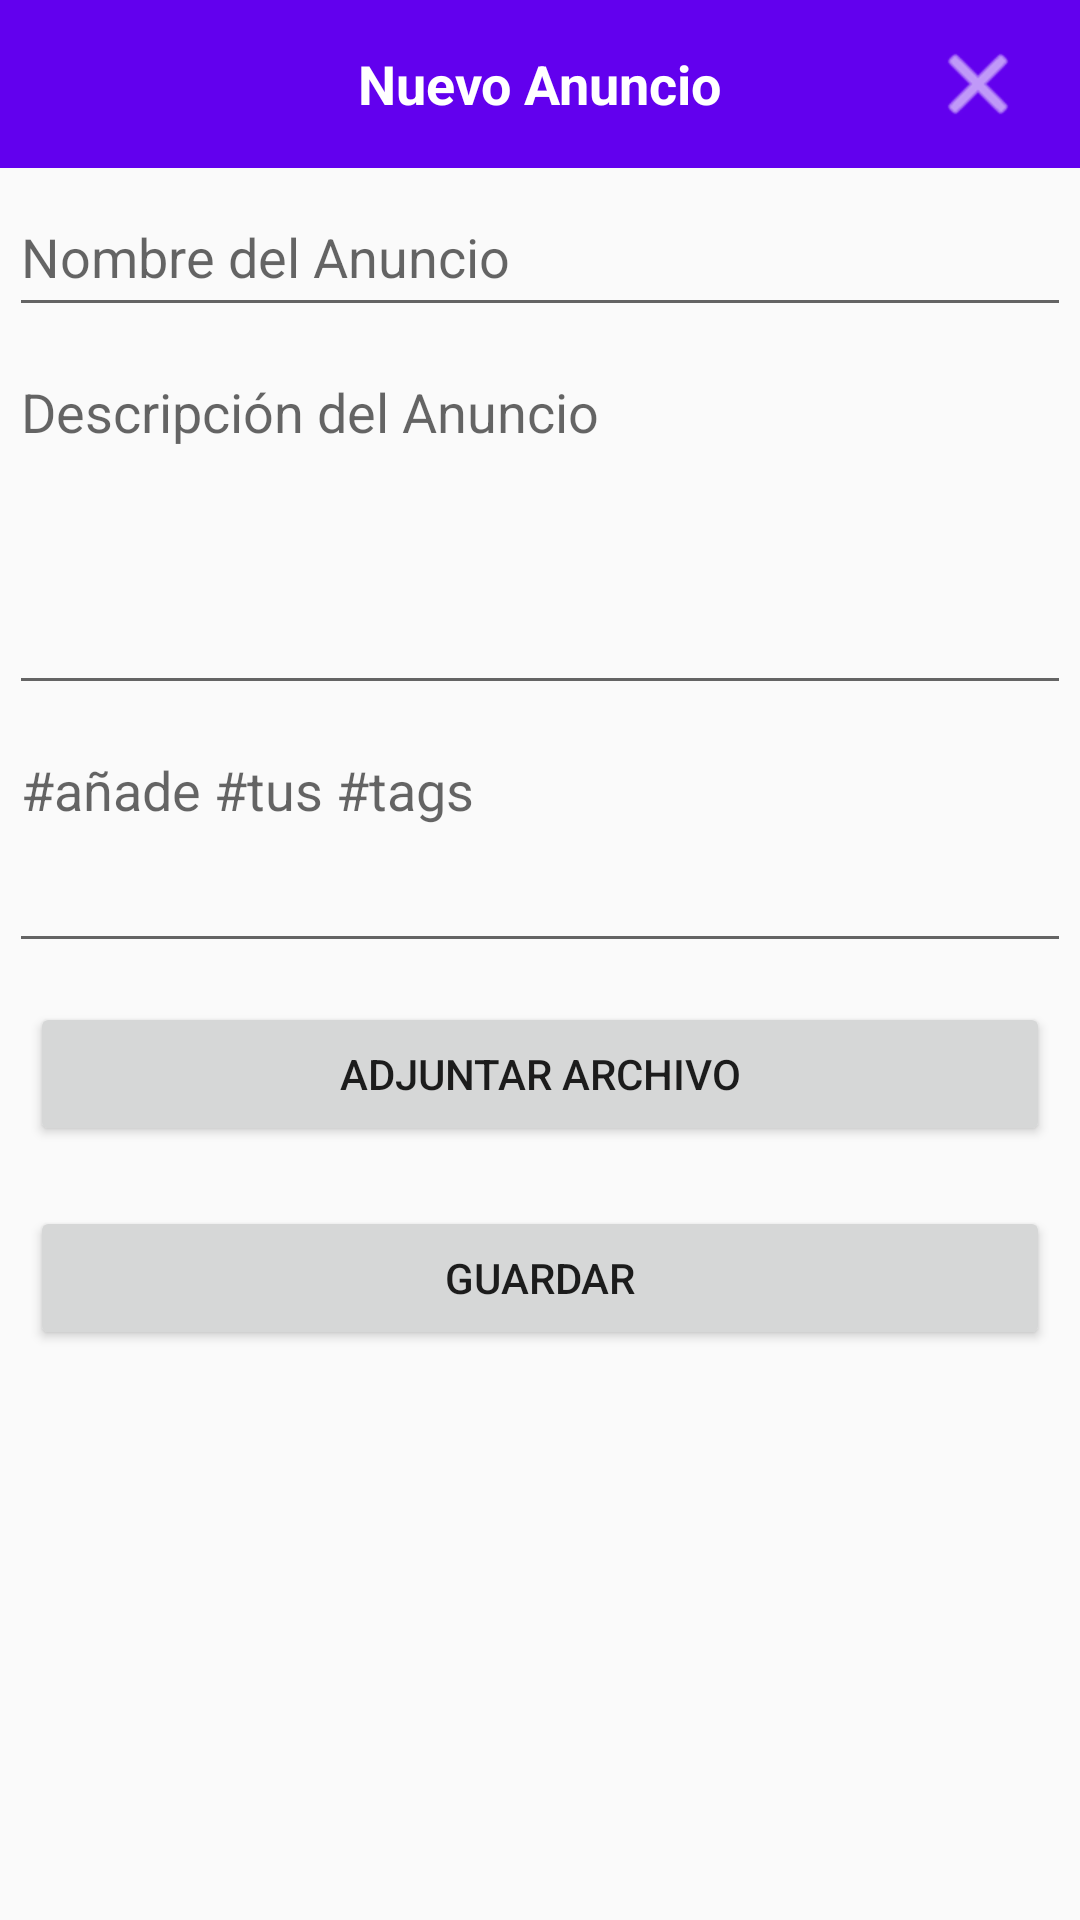

Icon click points for this 1080px×1920px phone screenshot, format (x,y):
close clear cancel: (978,84)
